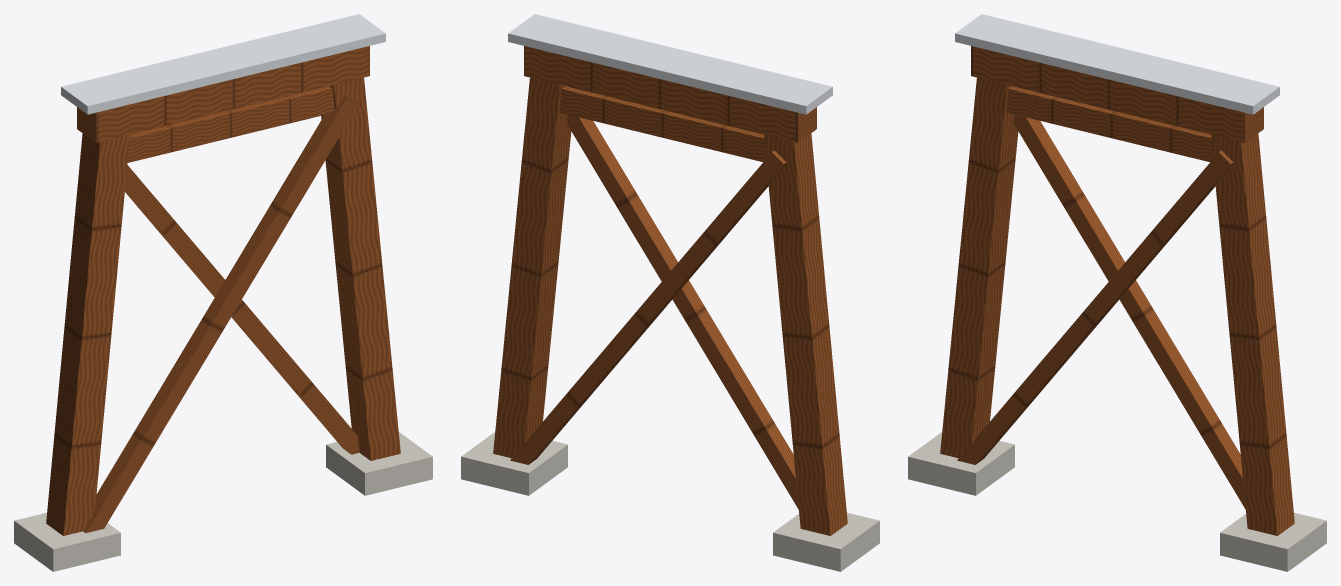
Rendered from theme-park-rides-and-coasters-theme-park-rides-and-coa-aafe598b__28654.glb.
The picture shows the model from 3 angles, left to right: view 1: azimuth 30°, elevation 25°; view 2: azimuth 150°, elevation 25°; view 3: azimuth 330°, elevation 25°; orthographic projection.
Visible parts, largest first — view 1: theme-park-rides-and-coasters-trestle-bent-short; view 2: theme-park-rides-and-coasters-trestle-bent-short; view 3: theme-park-rides-and-coasters-trestle-bent-short.
Boxes of the visible parts, x1,y1,x2,y2 form: theme-park-rides-and-coasters-trestle-bent-short: (14, 14, 432, 571); theme-park-rides-and-coasters-trestle-bent-short: (461, 14, 879, 571); theme-park-rides-and-coasters-trestle-bent-short: (908, 14, 1326, 571).
Bounding box in the file's own units: 2.8 × 3.21 × 0.5001.
Materials: 3 (2 with a texture image).
